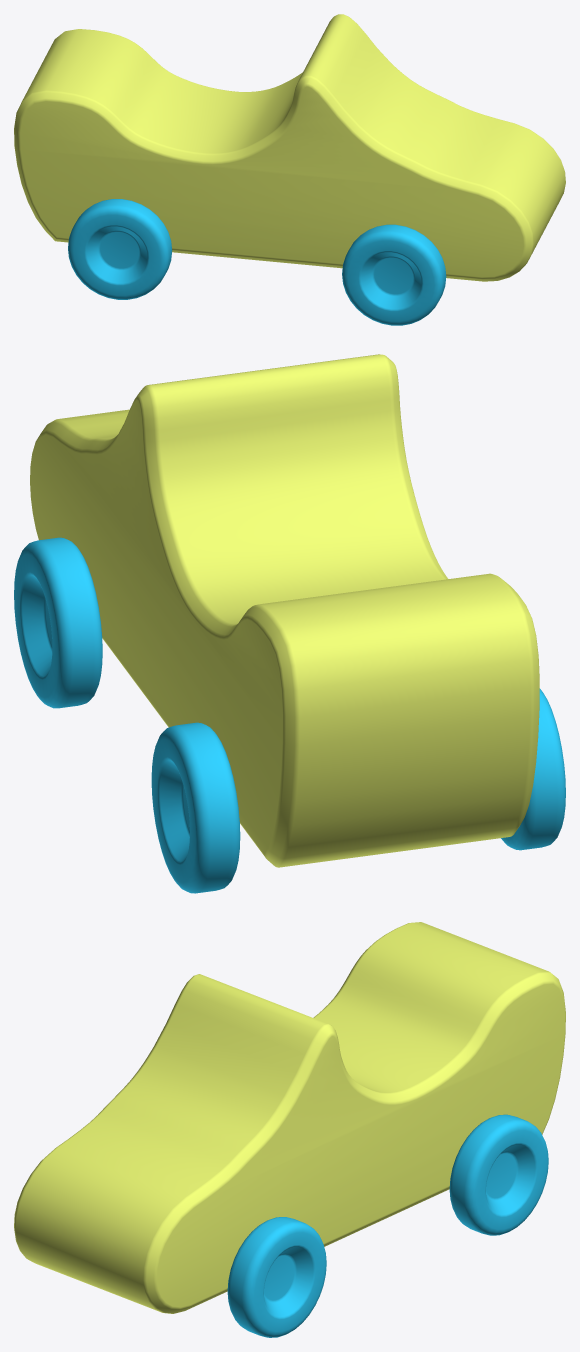
The model's file is ToyObject_048.fbx.
3 renders of one model, top to bottom at view 1: azimuth 30°, elevation 25°; view 2: azimuth 150°, elevation 25°; view 3: azimuth 270°, elevation 25°, orthographic. The views are drawn at different scales.
Visible parts, largest first — view 1: object-1.026; view 2: object-1.026; view 3: object-1.026.
Boxes of the visible parts, bbox=[...] form: object-1.026: bbox=[14, 14, 565, 325]; object-1.026: bbox=[14, 354, 565, 893]; object-1.026: bbox=[14, 922, 565, 1337].
Size of the model in its own units: 0.1819 by 0.0916 by 0.1737.
